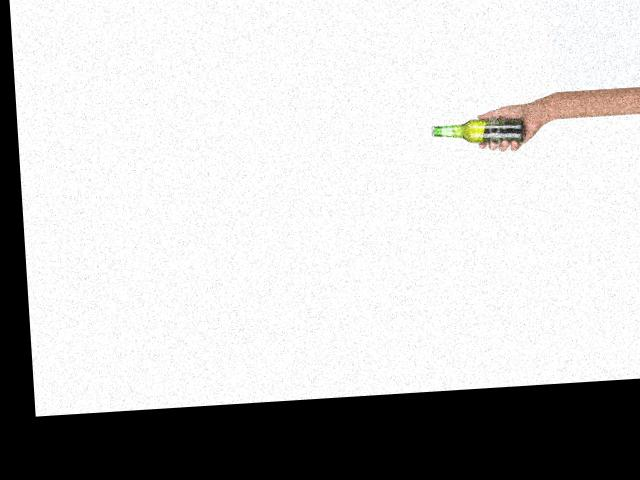beer: (430, 115, 524, 146)
